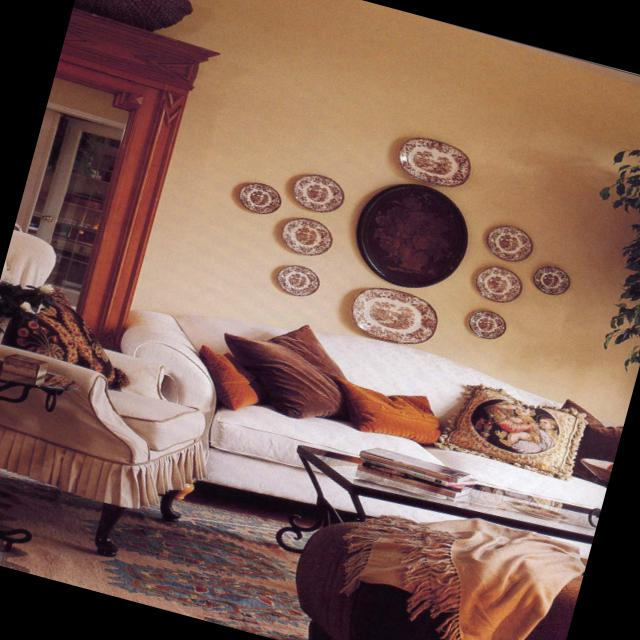books crop: (358, 447, 475, 498)
cushion occluded: (433, 382, 584, 480), (221, 323, 348, 415), (337, 379, 442, 440)
sofa bed: (0, 226, 206, 557)
